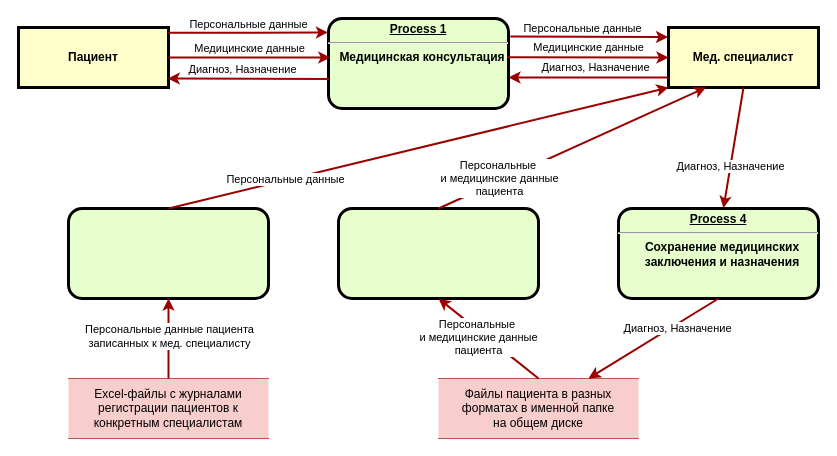
Image size: 837x456. Some labels were removed from this diagram. Each missing label, with the box of its shape:
Process 2 Проверка записи пациента в журнале регистрации: (66, 206, 270, 300)
Process 3 Изучение обращений, истории болезней и анализов пациента: (336, 206, 540, 300)
